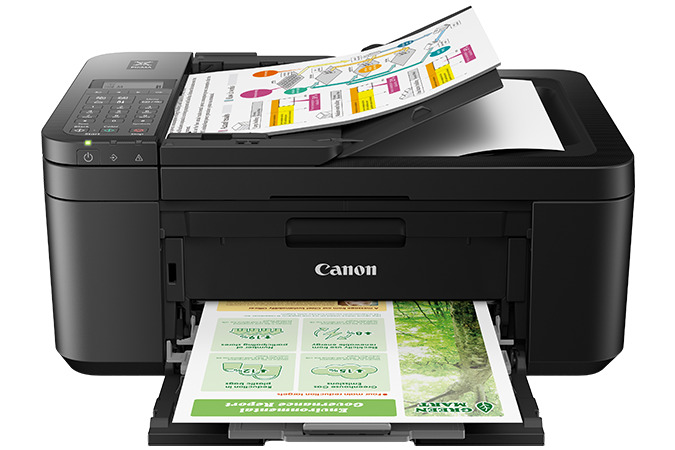printer: (41, 24, 637, 437)
